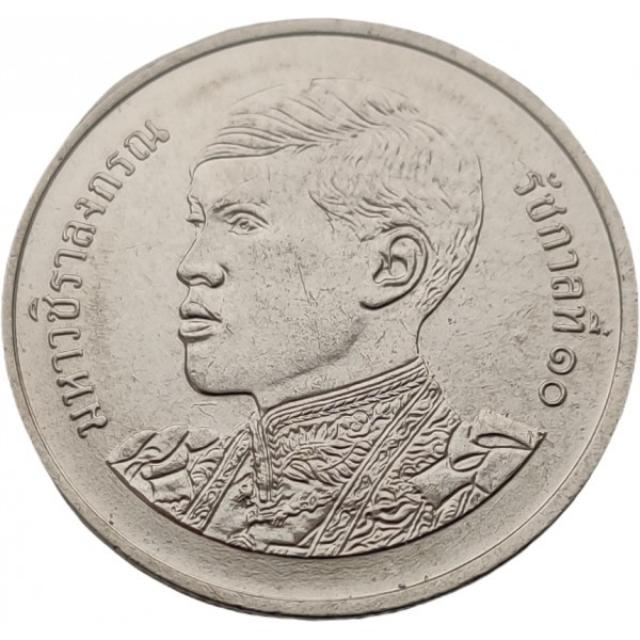1 Bath: (4, 1, 640, 640)
